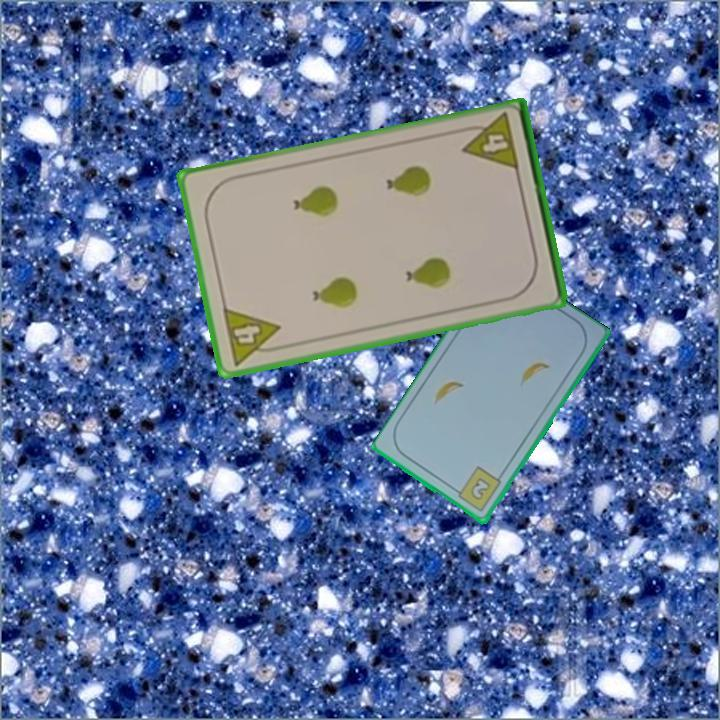2b: (450, 463, 504, 515)
4p: (219, 304, 287, 368), (456, 109, 522, 174)
